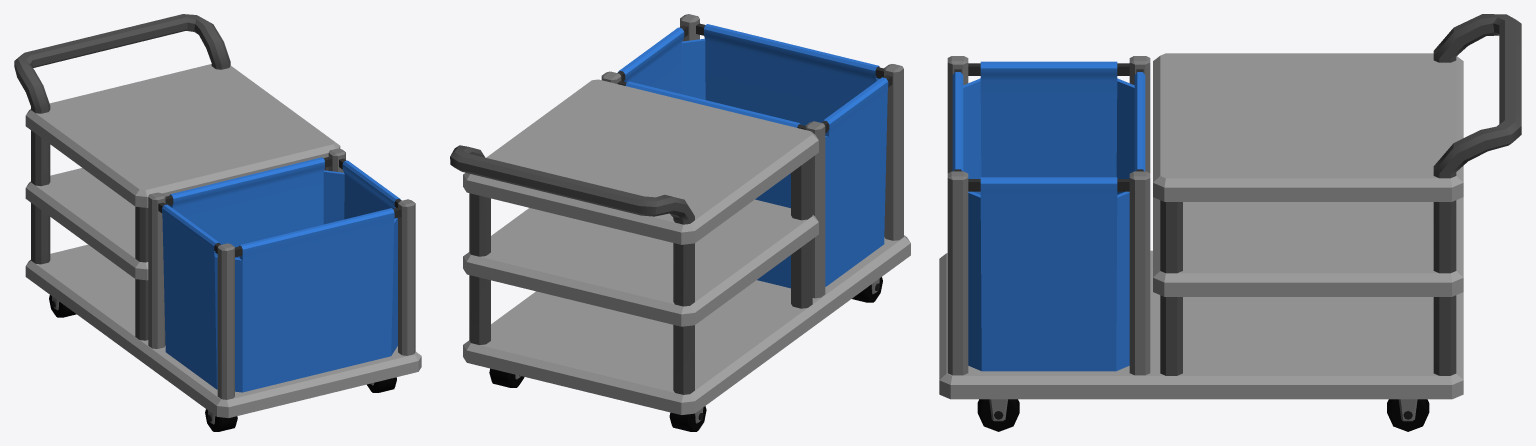
Rendered from Trash Trolley 01.fbx.
The picture shows the model from 3 angles, left to right: view 1: azimuth 30°, elevation 25°; view 2: azimuth 150°, elevation 25°; view 3: azimuth 270°, elevation 25°; orthographic projection. The views are drawn at different scales.
Visible parts, largest first — view 1: Trash_Trolley_01; view 2: Trash_Trolley_01; view 3: Trash_Trolley_01.
Part boxes in pixels (x1=…): Trash_Trolley_01: x1=14, y1=14, x2=421, y2=431; Trash_Trolley_01: x1=450, y1=14, x2=910, y2=431; Trash_Trolley_01: x1=939, y1=14, x2=1521, y2=431.
Bounding box in the file's own units: 82.43 × 89.56 × 155.
